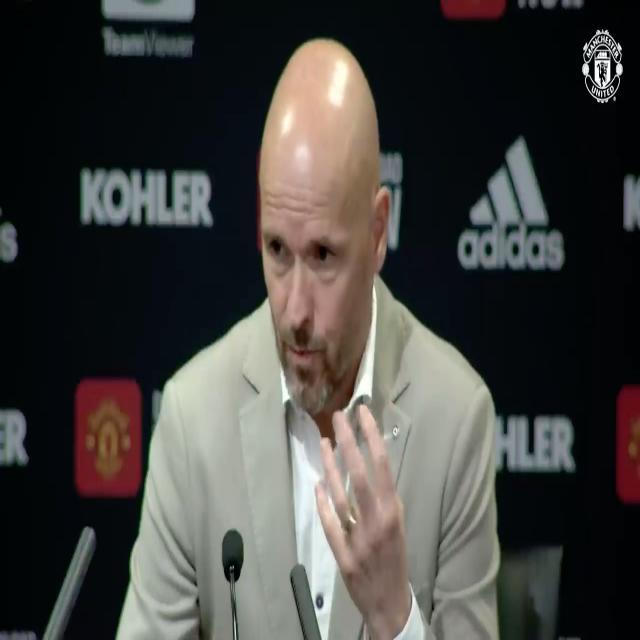Adidas: (457, 131, 564, 270)
Kohler: (82, 167, 212, 227)
TeamViewer: (103, 0, 195, 57)
